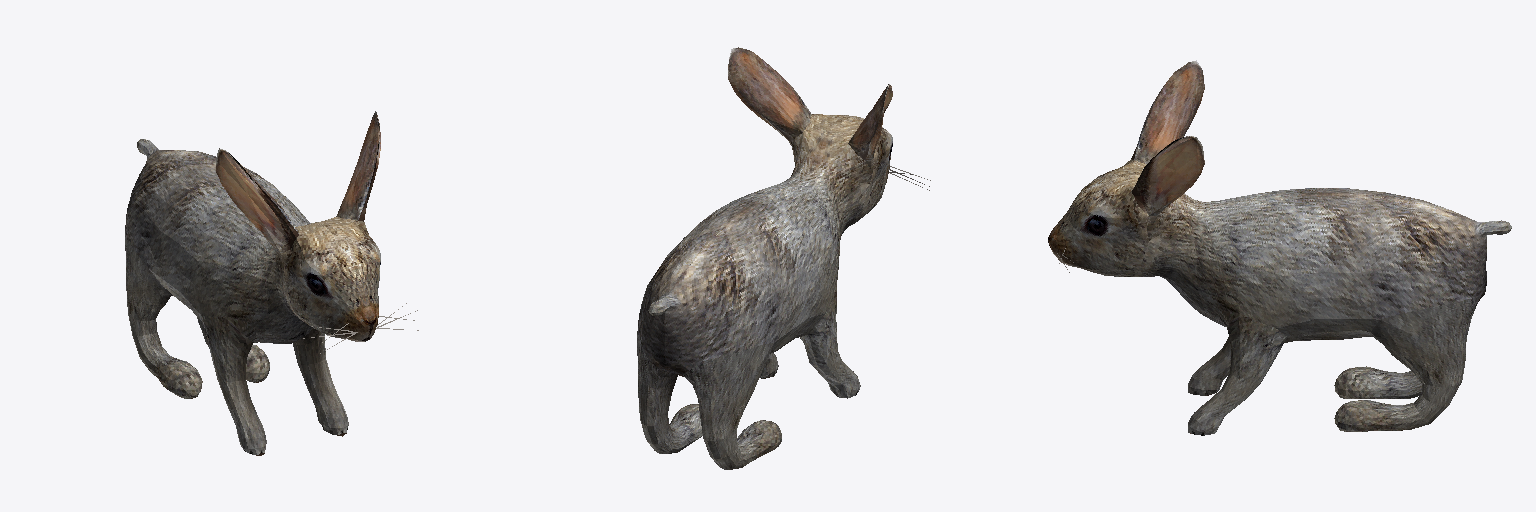
The picture shows the model from 3 angles: view 1: azimuth 30°, elevation 25°; view 2: azimuth 150°, elevation 25°; view 3: azimuth 270°, elevation 25°; orthographic projection.
Parts seen in each view (by area): view 1: Box01; view 2: Box01; view 3: Box01.
Part boxes in pixels (x1,y1,x2,y2): Box01: (125,111,418,455); Box01: (637,47,930,469); Box01: (1048,60,1511,435).
Bounding box in the file's own units: 23.11 × 44.36 × 59.33.
Materials: 1 (1 with a texture image).